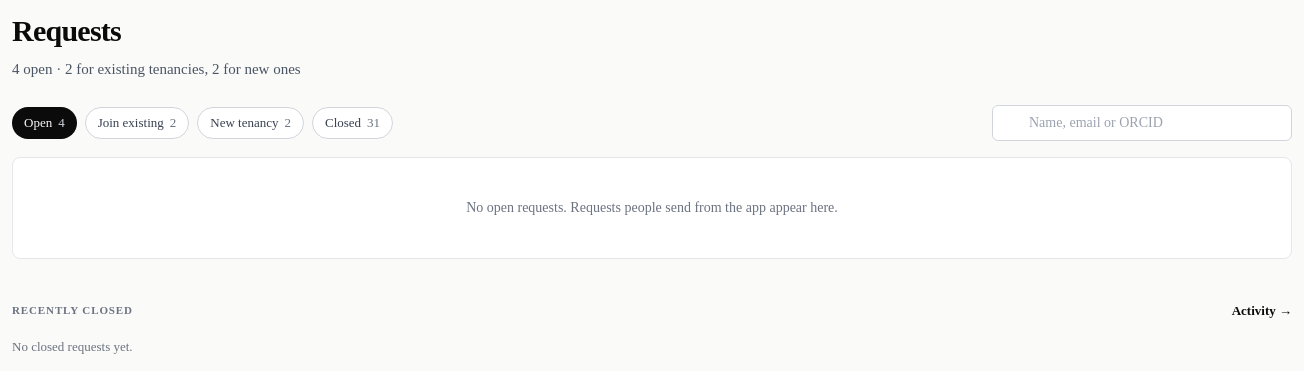
it: RequestsView › an empty queue, and a search that matches nothing
The width and height of the screenshot is (1304, 371).
Expected: the text "No open requests. Requests people send from the app appear here." is shown, [12,156,1292,258]
In the search field with placeholder "Name, email or ORCID": (1142, 122) [992,104,1292,140], type " tanaka "
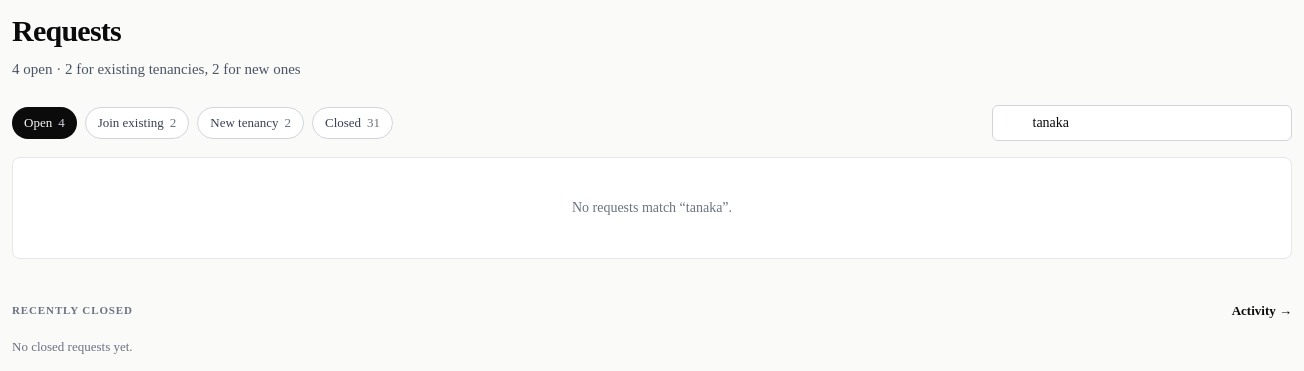
Expected: the text "No requests match “tanaka”." is shown, [12,156,1292,258]
